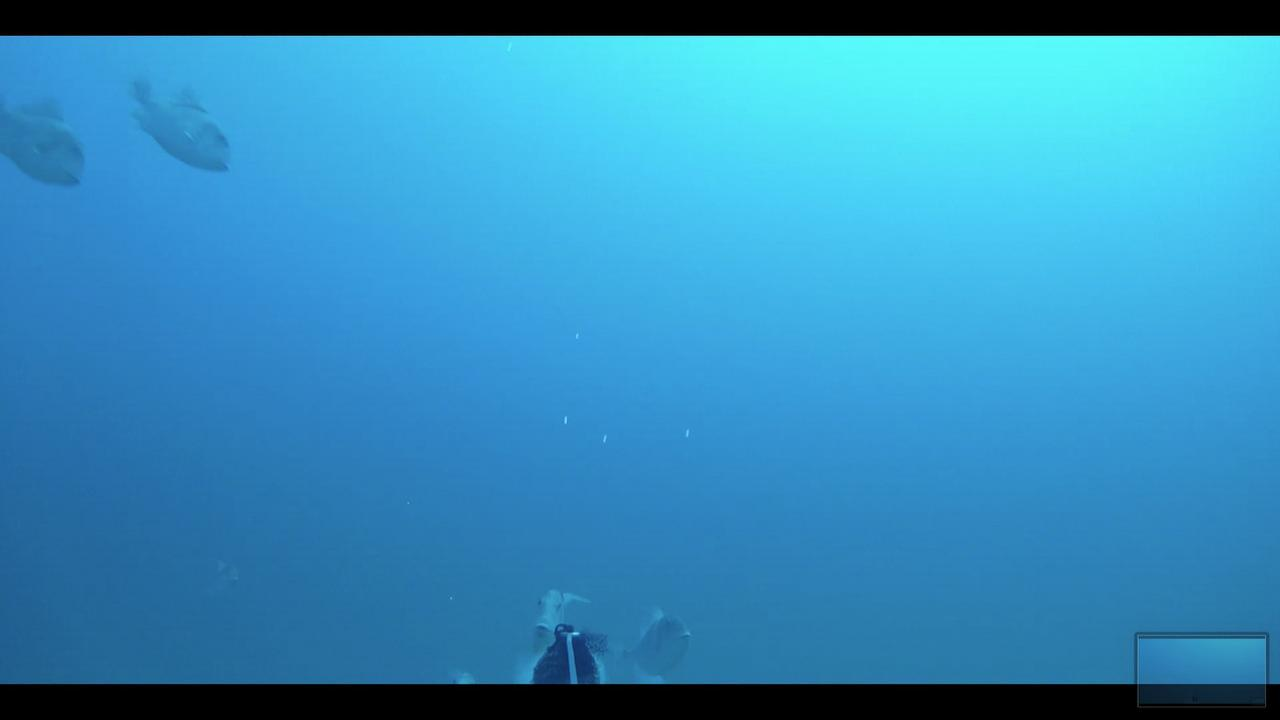balistes: (122, 76, 237, 177), (612, 605, 697, 681), (521, 577, 593, 659)
